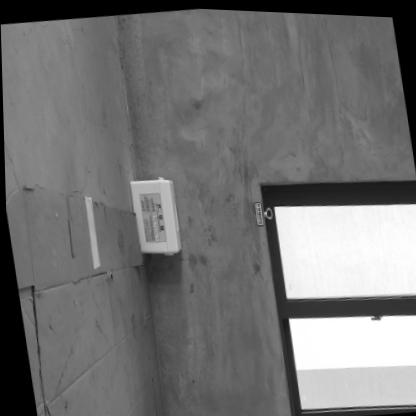DDL: (127, 172, 181, 255)
